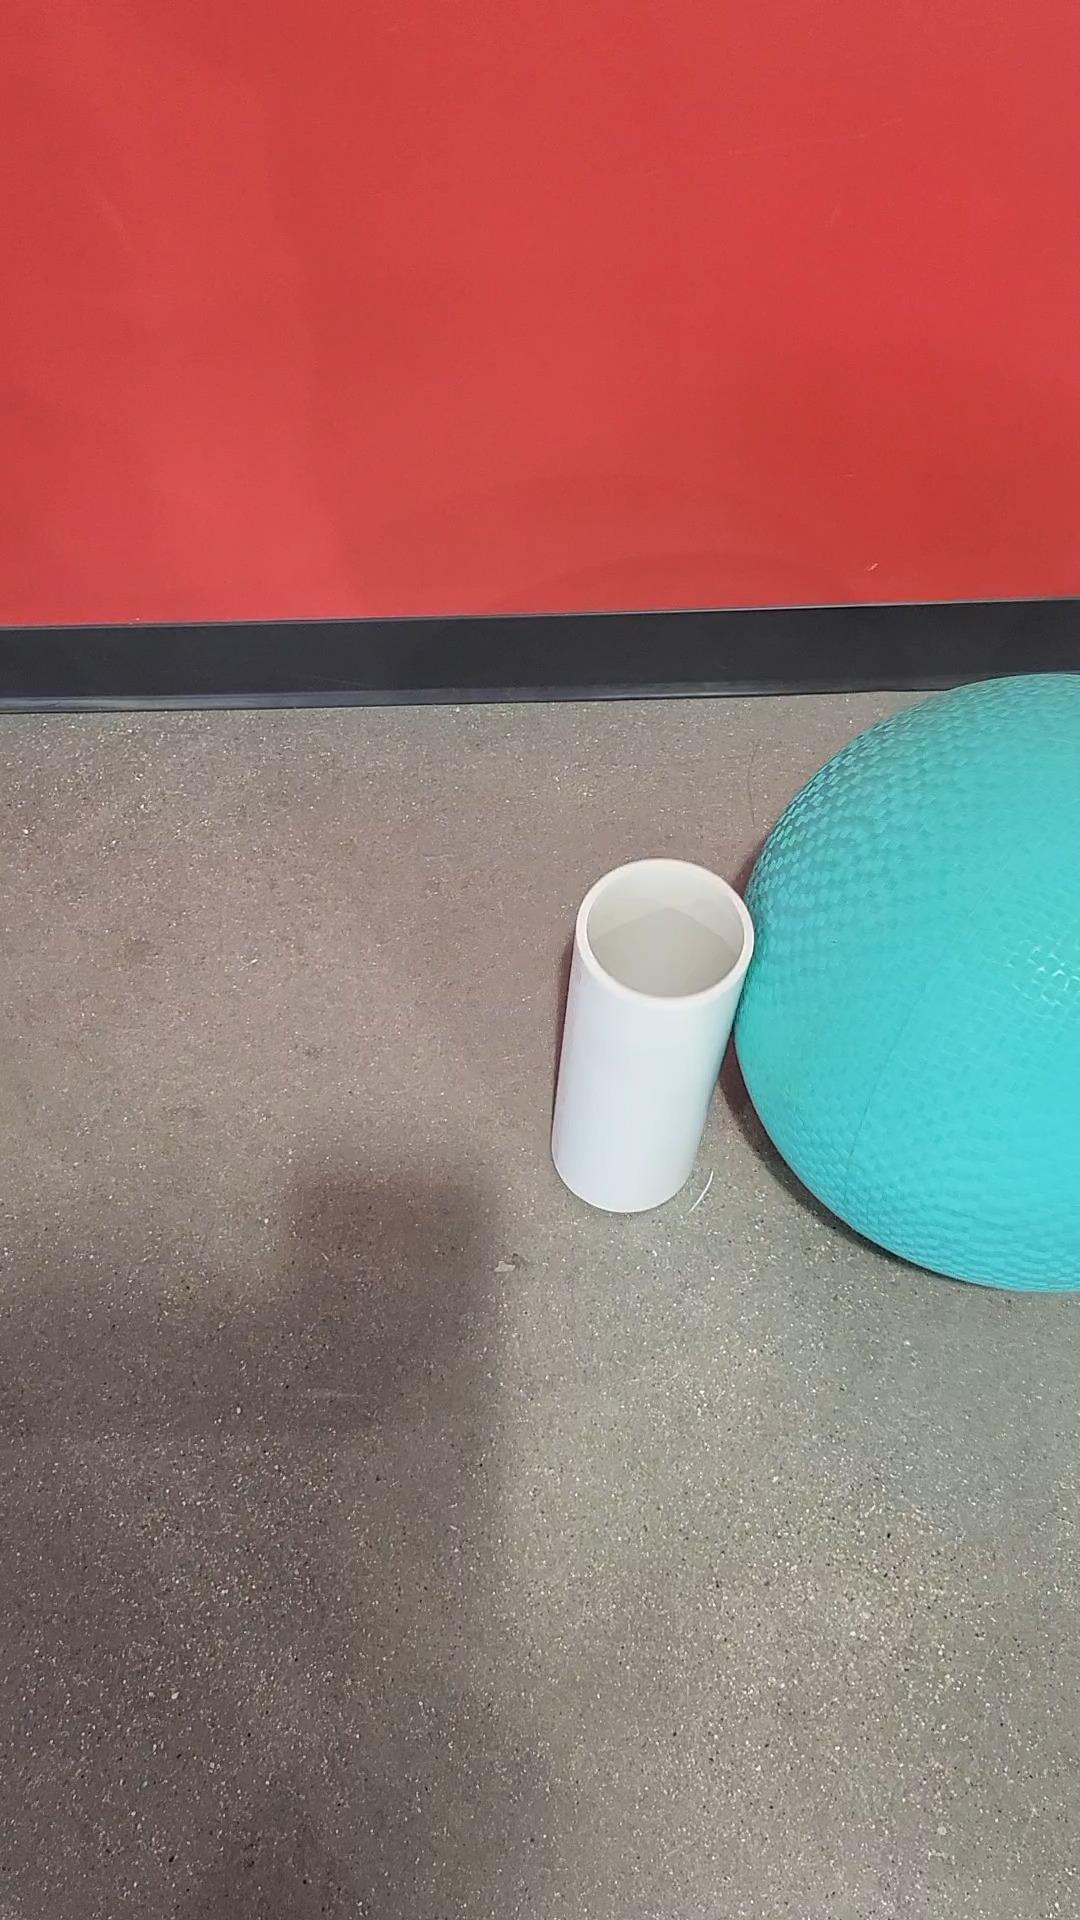algae: (735, 673, 1079, 1298)
coral: (549, 855, 757, 1215)
